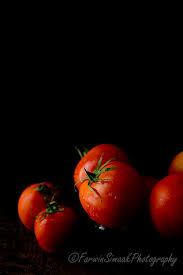tomato: (78, 160, 145, 231), (16, 181, 67, 228), (34, 206, 79, 254)
